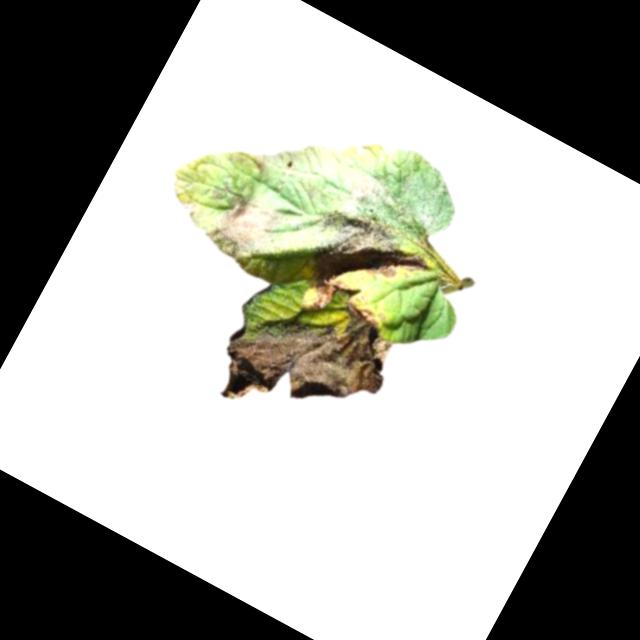Late_blight: (205, 255, 412, 461), (293, 162, 451, 320), (202, 187, 287, 271), (345, 289, 389, 328), (176, 194, 206, 225), (349, 141, 370, 161)
